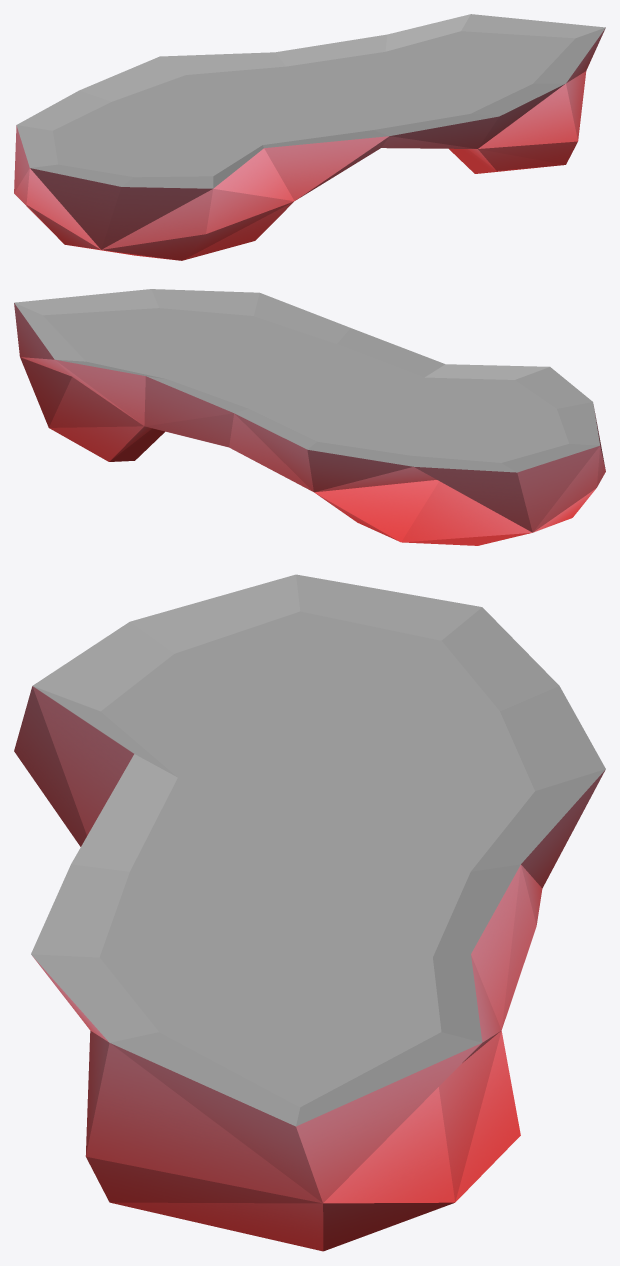
The model's file is MOD_PlatformV3_Floating.fbx.
3 views of the same model, one above another, from view 1: azimuth 30°, elevation 25°; view 2: azimuth 150°, elevation 25°; view 3: azimuth 270°, elevation 25° (orthographic). The views are drawn at different scales.
Visible parts, largest first — view 1: MOD_PlatformsFloating_Laag; view 2: MOD_PlatformsFloating_Laag; view 3: MOD_PlatformsFloating_Laag.
Part boxes in pixels (x1,y1,x2,y2): MOD_PlatformsFloating_Laag: [14, 14, 605, 260]; MOD_PlatformsFloating_Laag: [14, 289, 605, 545]; MOD_PlatformsFloating_Laag: [14, 574, 605, 1251].
Size of the model in its own units: 4.96 by 1.01 by 2.25.
3 materials, 1 textured.
